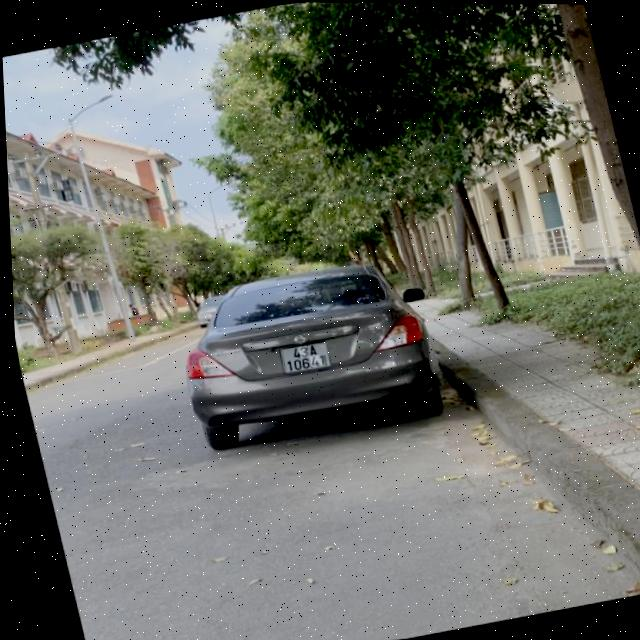car: (164, 251, 447, 466)
plate: (271, 335, 337, 379)
